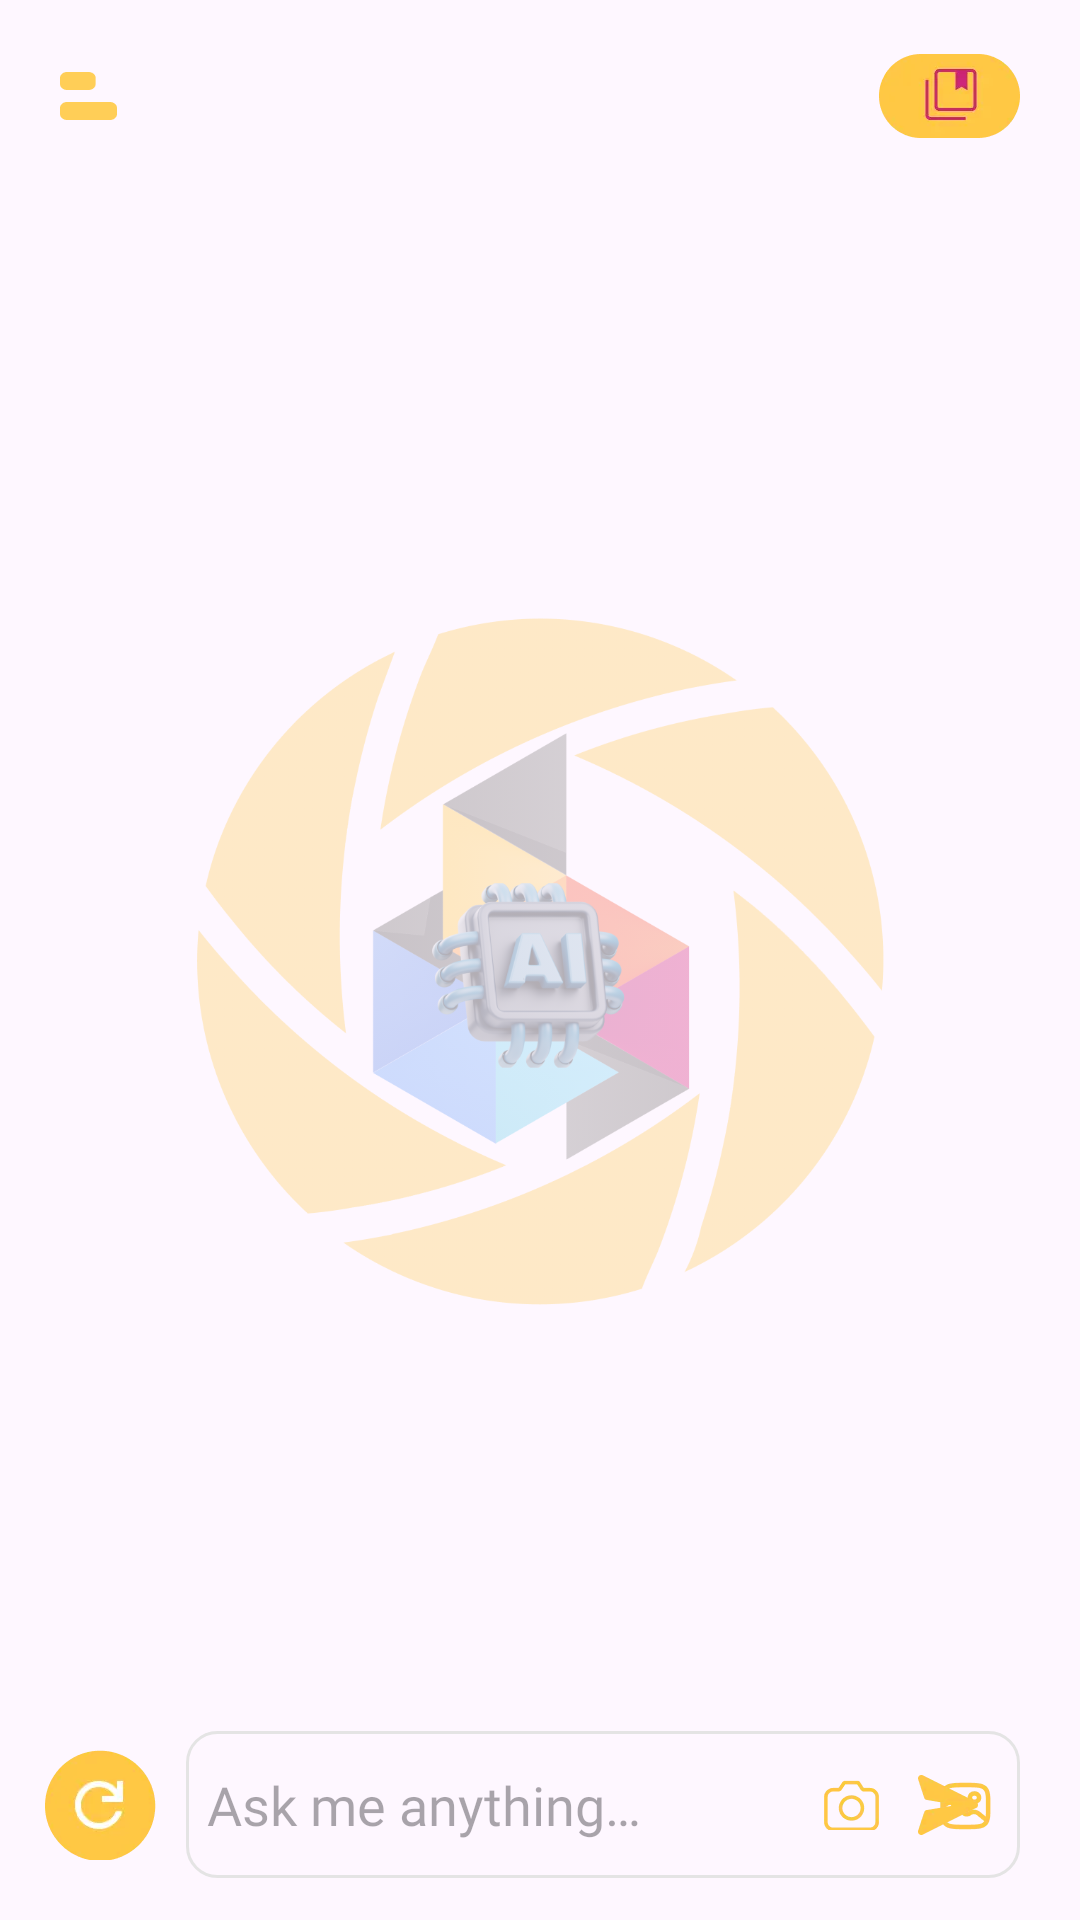

Icon bounding boxes for this 1080w x 1920h phone screenshot, format bbox=(x1, y1, x2, y2):
camera: bbox=(824, 1781, 879, 1830)
collection: bbox=(879, 54, 1020, 138)
refresh: bbox=(45, 1750, 156, 1860)
